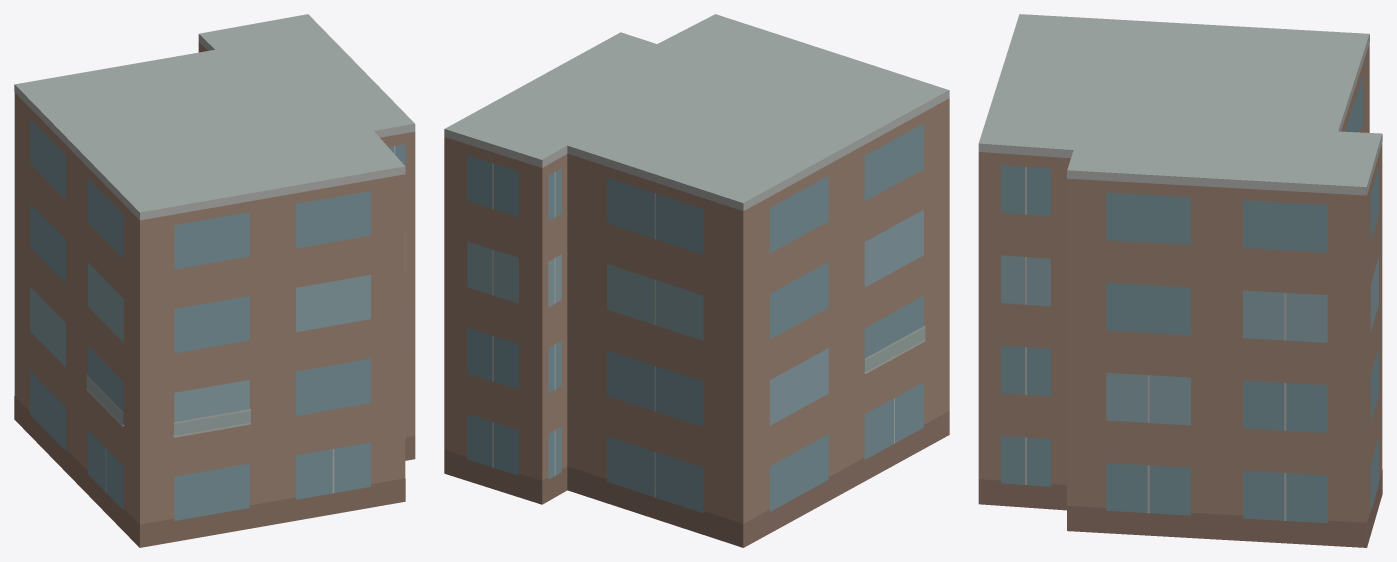
File: survey-upis-32630188.glb
3 views of the same model, side by side, from view 1: azimuth 30°, elevation 25°; view 2: azimuth 150°, elevation 25°; view 3: azimuth 270°, elevation 25° (orthographic). The views are drawn at different scales.
Visible parts, largest first — view 1: survey-upis-32630188.tmp; view 2: survey-upis-32630188.tmp; view 3: survey-upis-32630188.tmp.
Part boxes in pixels (box(x1,y1,x2,y2)): survey-upis-32630188.tmp: box(14, 14, 415, 547); survey-upis-32630188.tmp: box(444, 14, 949, 547); survey-upis-32630188.tmp: box(978, 14, 1382, 547).
Size of the model in its own units: 10.82 by 10.5 by 10.67.
